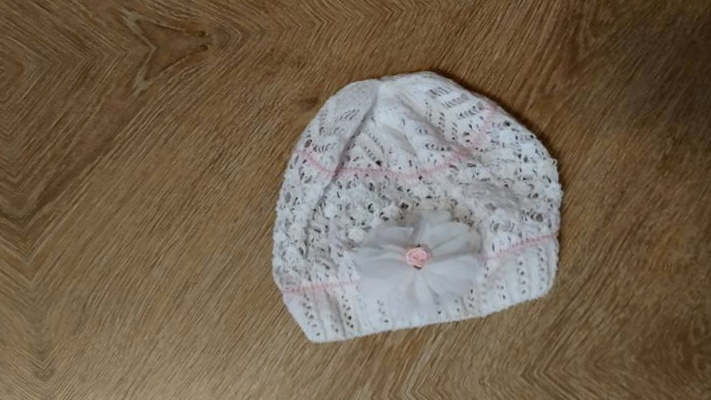Hat: (190, 26, 603, 370), (135, 0, 548, 5)
